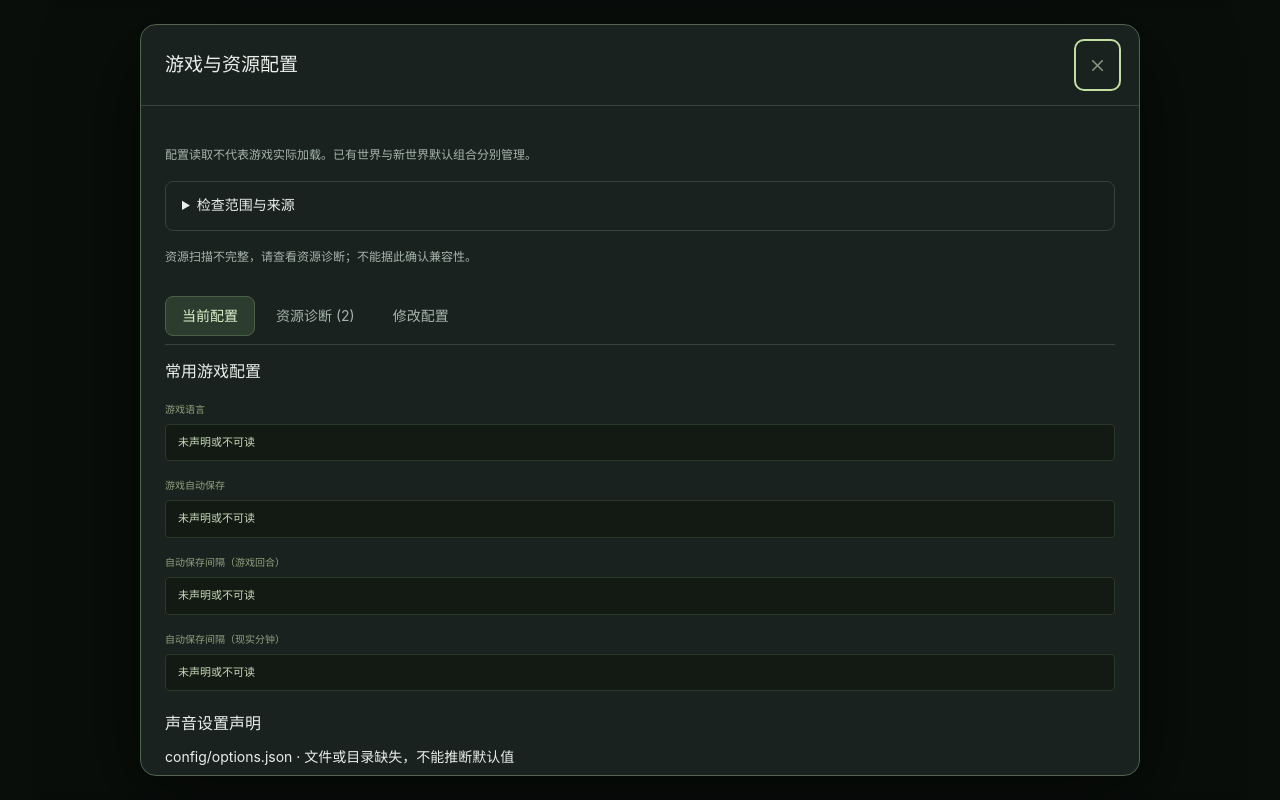
Test case: keeps incomplete discovery and dependency ambiguity distinct from compatibility
What coordinates should you click on to do the following:
click the tab "资源诊断 (2)"
I would click on:
 (315, 316)
Its box is [259, 296, 372, 336].
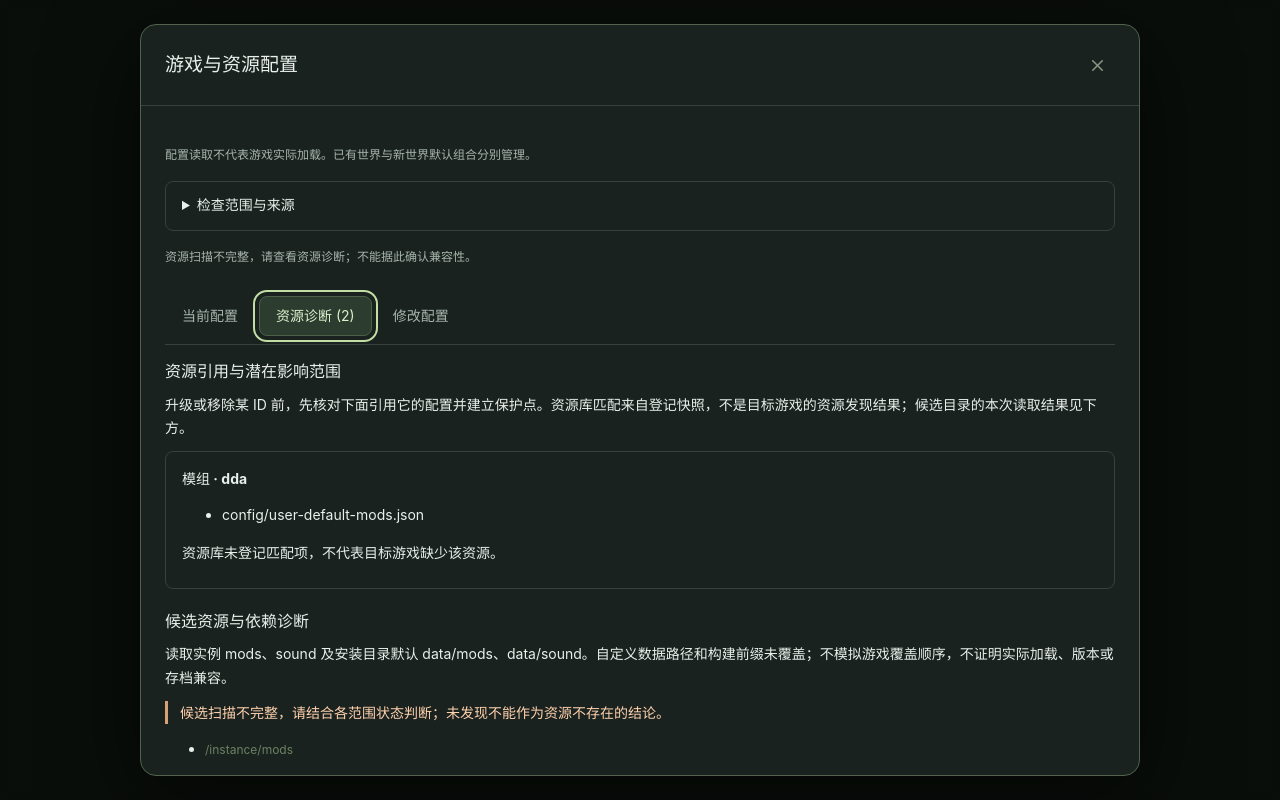
Result: the message shows "候选扫描不完整" at [180, 704, 670, 721]
Result: the text "不证明实际加载、版本或存档兼容" is shown at [165, 645, 1114, 686]
